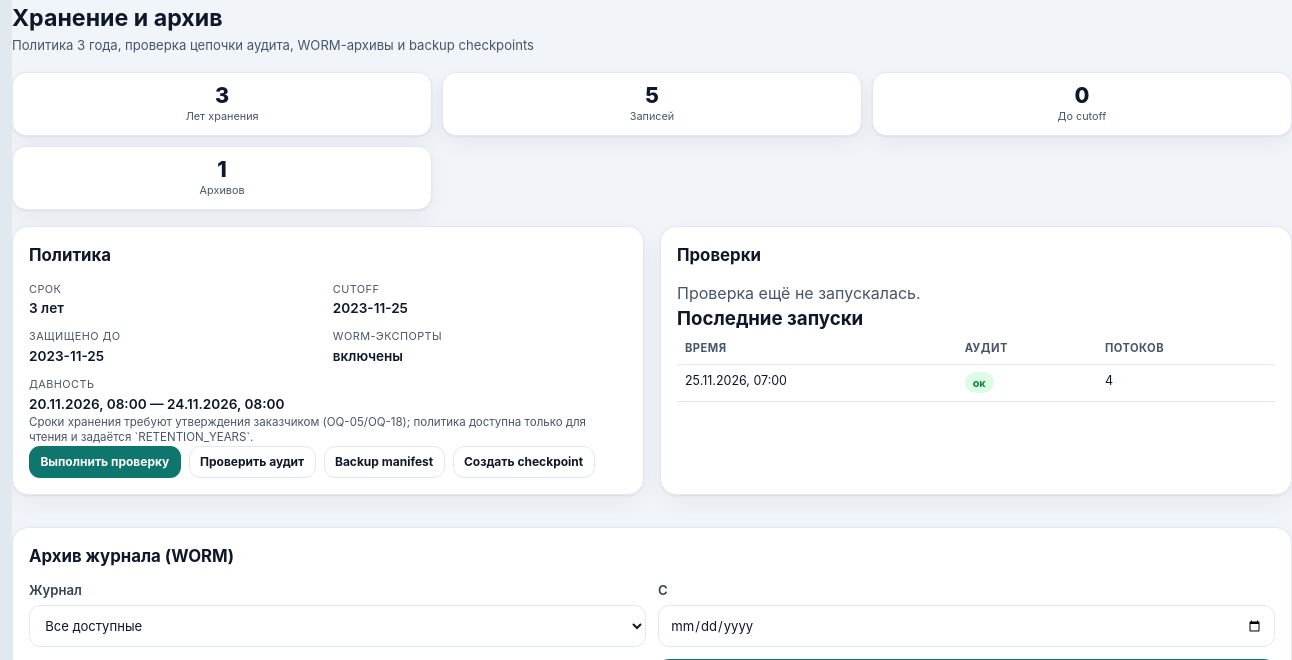
Test: AdminRetentionScreen › shows the policy, runs checks and creates an archive
Later steps or results of the test are not shown.
Expected: the heading "Хранение и архив" is shown, 12,4 -> 223,32
Expected: the text "Сроки хранения требуют утверждения" is shown, 29,415 -> 586,444
Click the button "Выполнить проверку" at point(105, 462), box 29,446 -> 181,478
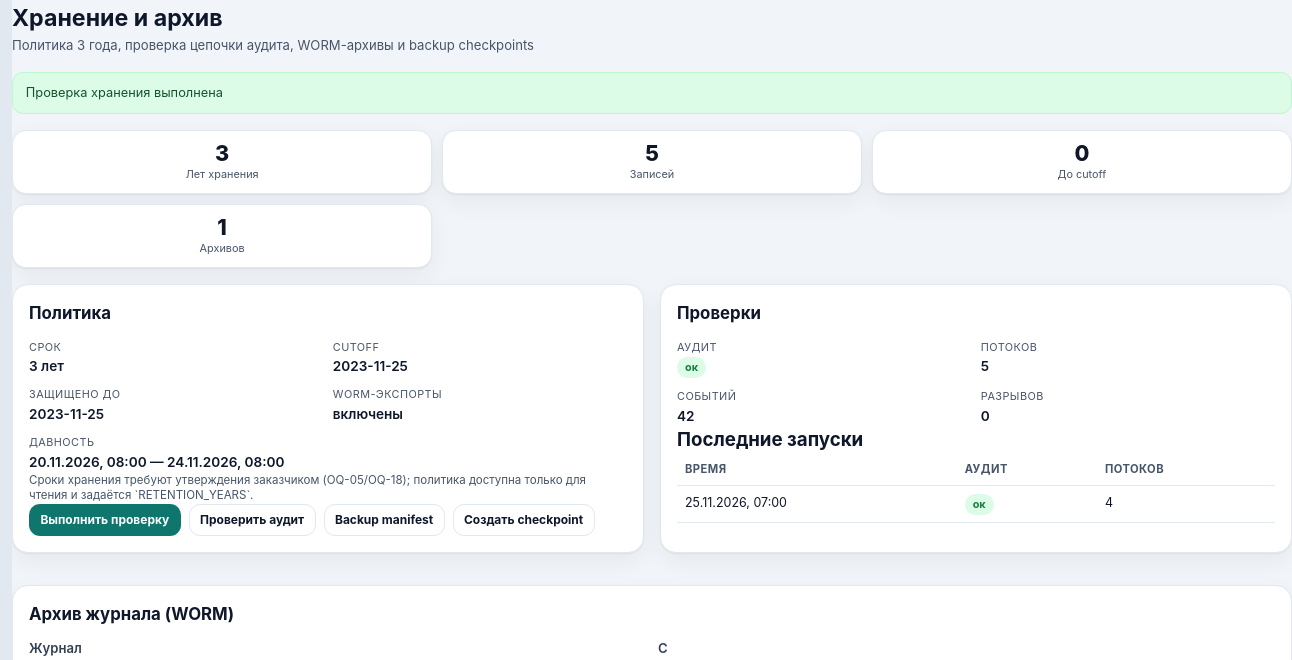
Now the text "Проверка хранения выполнена" is shown, box 12,72 -> 1291,114
Now the text "42" is shown, box 677,408 -> 694,424
